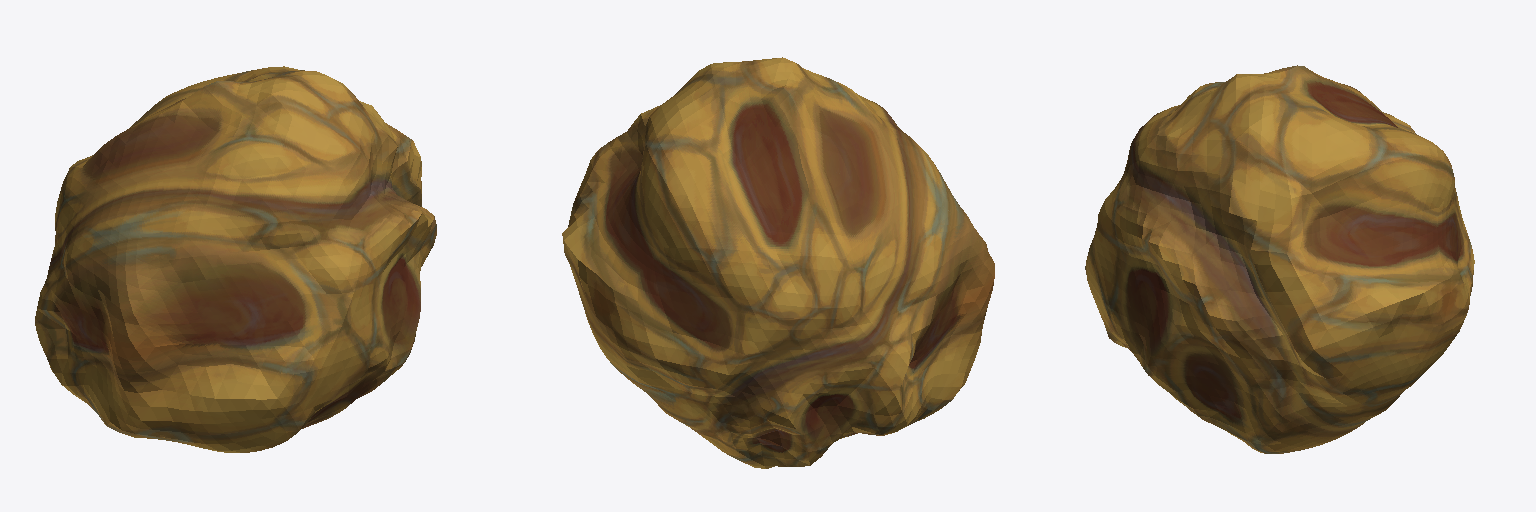
3 views of the same model, side by side, from view 1: azimuth 30°, elevation 25°; view 2: azimuth 150°, elevation 25°; view 3: azimuth 270°, elevation 25° (orthographic).
Visible parts, largest first — view 1: Icosphere; view 2: Icosphere; view 3: Icosphere.
Boxes of the visible parts, <box> form: Icosphere: <box>35,66,436,452</box>; Icosphere: <box>562,57,994,468</box>; Icosphere: <box>1085,65,1474,453</box>.
Size of the model in its own units: 2.39 by 2.3 by 2.23.
Materials: 1 (1 with a texture image).